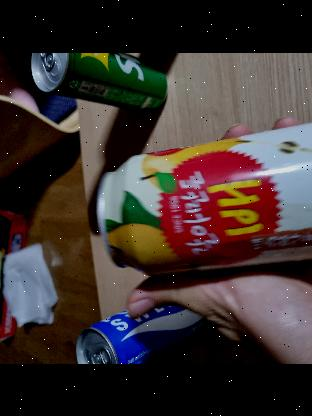Can: (97, 121, 312, 275), (34, 52, 170, 115)
